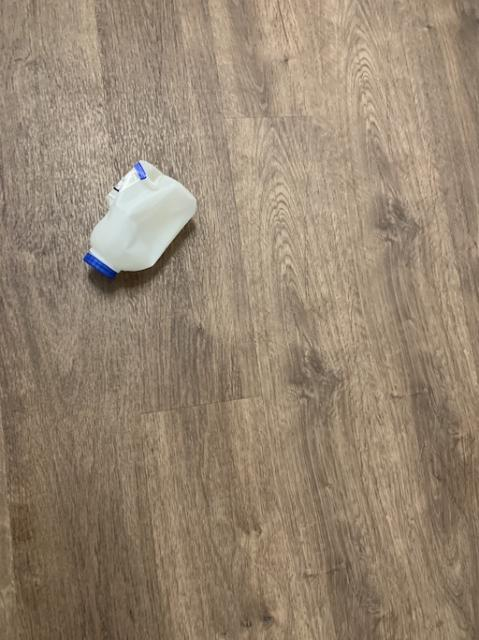plastic: (83, 160, 195, 276)
